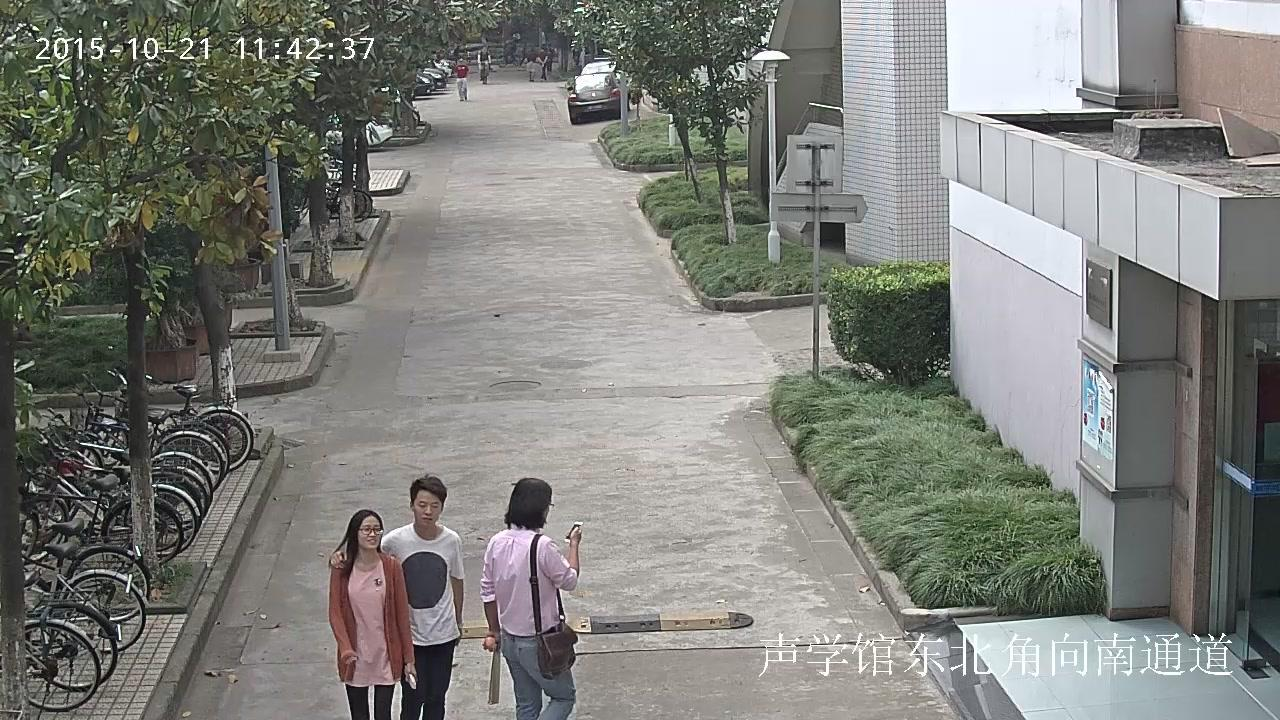face: (416, 491, 440, 526), (360, 518, 381, 549), (545, 493, 551, 525), (482, 47, 486, 52)
